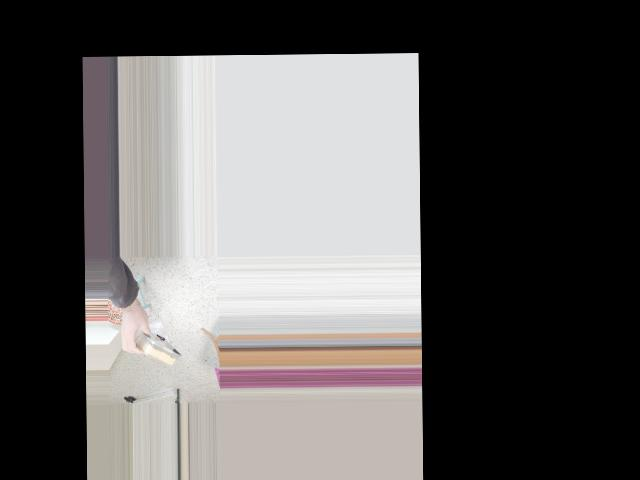cheese: (112, 318, 184, 376)
